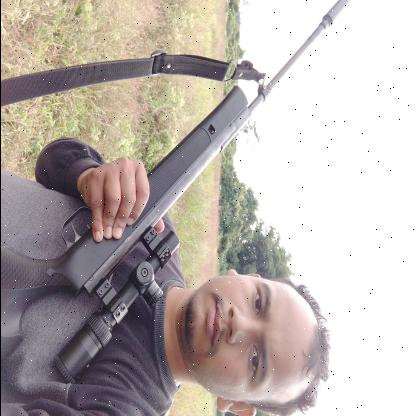rifle: (0, 0, 349, 388)
